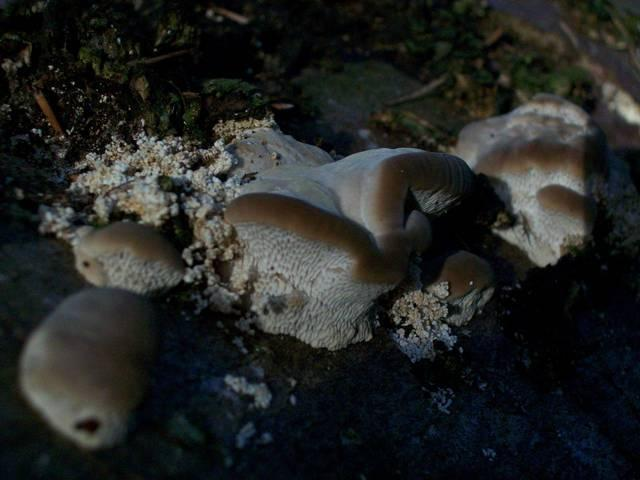poisonous_mushroom: (210, 144, 478, 351), (441, 59, 640, 275), (16, 284, 159, 452), (66, 218, 187, 296)
